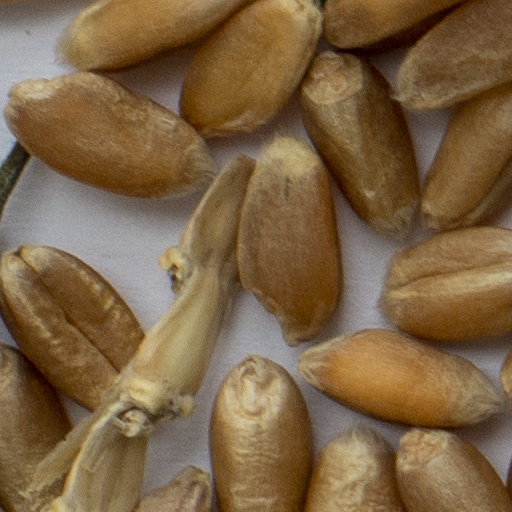Peel-poly: (32, 164, 247, 511)
